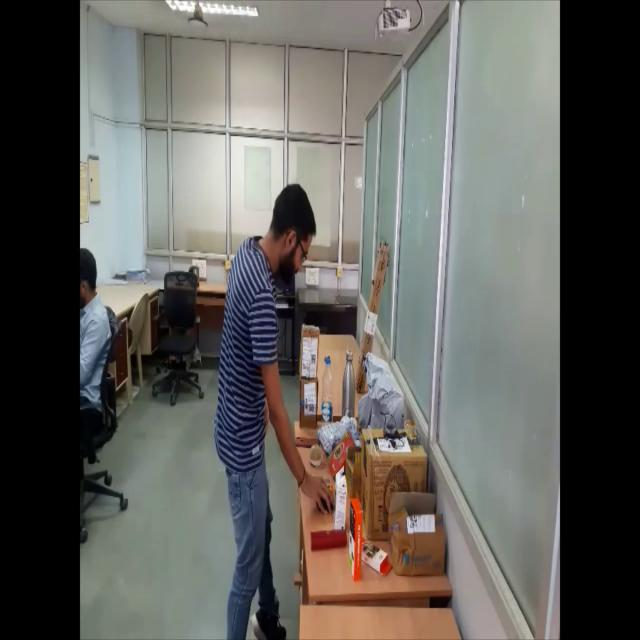normal: (210, 179, 337, 640)
